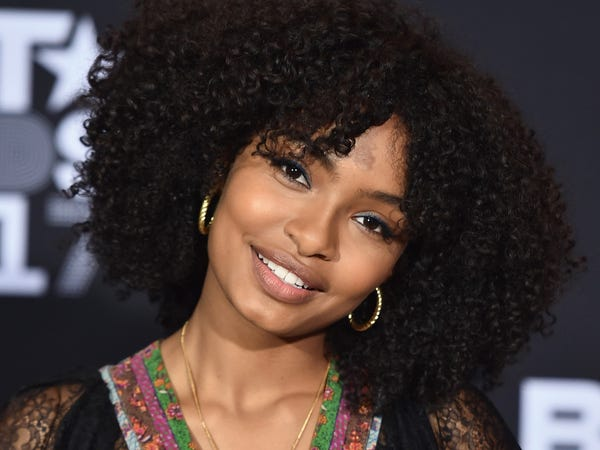bare: (205, 189, 384, 336)
